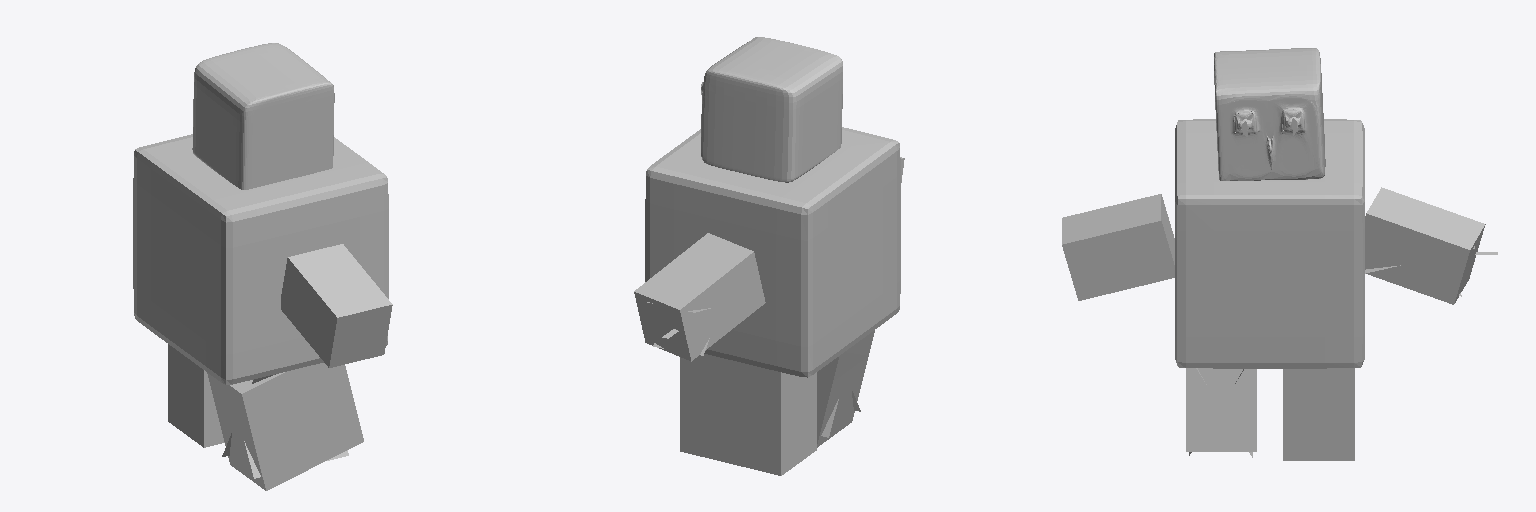
3 views of the same model, side by side, from view 1: azimuth 30°, elevation 25°; view 2: azimuth 150°, elevation 25°; view 3: azimuth 270°, elevation 25° (orthographic).
Visible parts, largest first — view 1: Cube_Cube.001, Cube.001_Cube.002, CollisionLL_Cube.003, Cube.005_Cube.007, Cube.003_Cube.004; view 2: Cube_Cube.001, Cube.001_Cube.002, Cube.003_Cube.004, Cube.004_Cube.005, CollisionLL_Cube.003; view 3: Cube_Cube.001, Cube.001_Cube.002, Cube.004_Cube.005, Cube.005_Cube.007, Cube.003_Cube.004, CollisionLL_Cube.003.
Boxes of the visible parts, <box> form: Cube_Cube.001: <box>133,134,388,384</box>; Cube.001_Cube.002: <box>192,43,334,189</box>; CollisionLL_Cube.003: <box>207,363,363,490</box>; Cube.005_Cube.007: <box>281,244,392,367</box>; Cube.003_Cube.004: <box>168,344,224,447</box>; Cube_Cube.001: <box>645,127,900,377</box>; Cube.001_Cube.002: <box>701,37,842,182</box>; Cube.003_Cube.004: <box>680,354,816,475</box>; Cube.004_Cube.005: <box>634,233,765,361</box>; CollisionLL_Cube.003: <box>817,330,874,447</box>; Cube_Cube.001: <box>1175,119,1364,368</box>; Cube.001_Cube.002: <box>1214,48,1325,180</box>; Cube.004_Cube.005: <box>1365,187,1485,304</box>; Cube.005_Cube.007: <box>1062,194,1174,300</box>; Cube.003_Cube.004: <box>1283,368,1354,460</box>; CollisionLL_Cube.003: <box>1186,368,1256,451</box>.
Size of the model in its own units: 1.46 by 3.23 by 3.34.